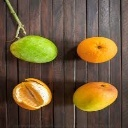mango: (71, 81, 119, 113), (9, 35, 59, 63)
